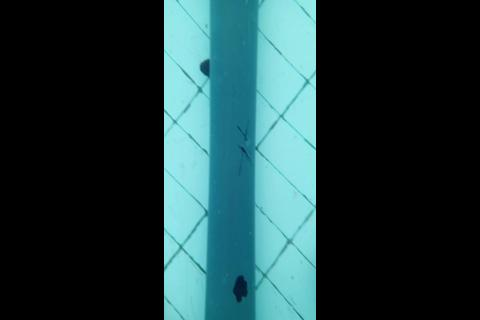kebocoran: (232, 273, 249, 303)
keretakan: (235, 120, 253, 177)
